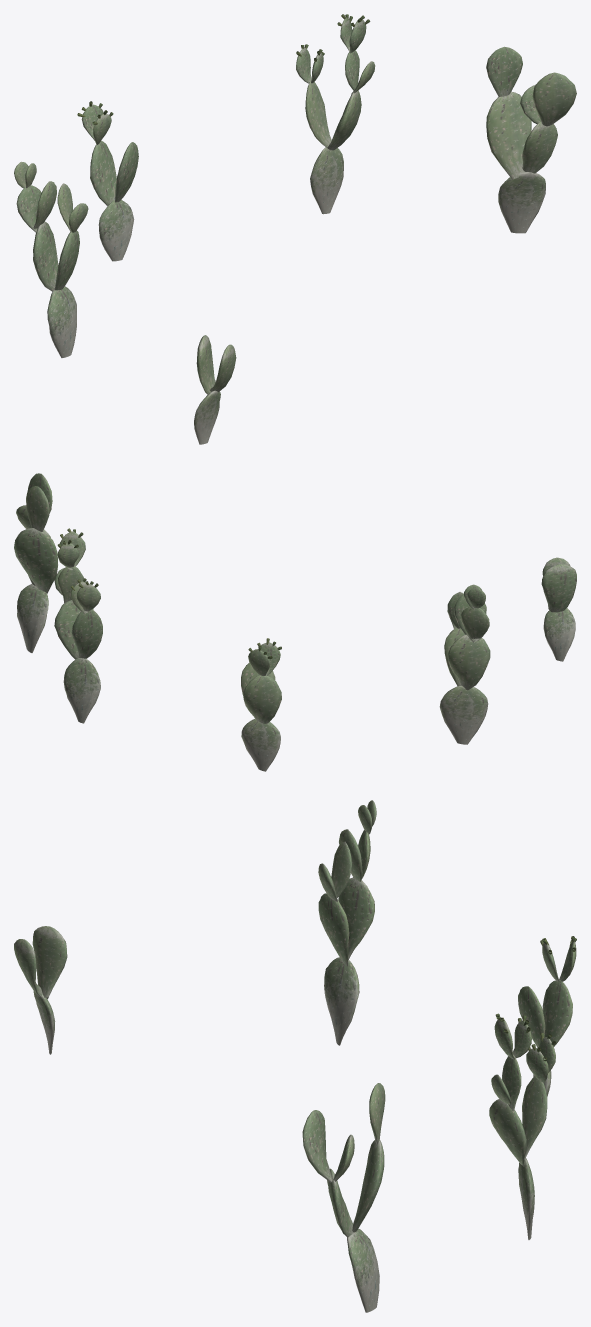
The model's file is runtime-opuntia.glb.
The picture shows the model from 3 angles, top to bottom: view 1: azimuth 30°, elevation 25°; view 2: azimuth 150°, elevation 25°; view 3: azimuth 270°, elevation 25°; orthographic projection. The views are drawn at different scales.
Parts seen in each view (by area): view 1: prickly pear_4, prickly pear blend_3; view 2: prickly pear_4, prickly pear blend_3; view 3: prickly pear_4, prickly pear blend_3.
Boxes of the visible parts, <box> form: prickly pear_4: <box>14,17,576,394</box>; prickly pear blend_3: <box>47,147,545,444</box>; prickly pear_4: <box>14,473,576,723</box>; prickly pear blend_3: <box>17,584,575,771</box>; prickly pear_4: <box>14,800,576,1237</box>; prickly pear blend_3: <box>33,957,551,1312</box>.
Size of the model in its own units: 2.5 by 0.8975 by 1.94.
Materials: 3 (3 with a texture image).
